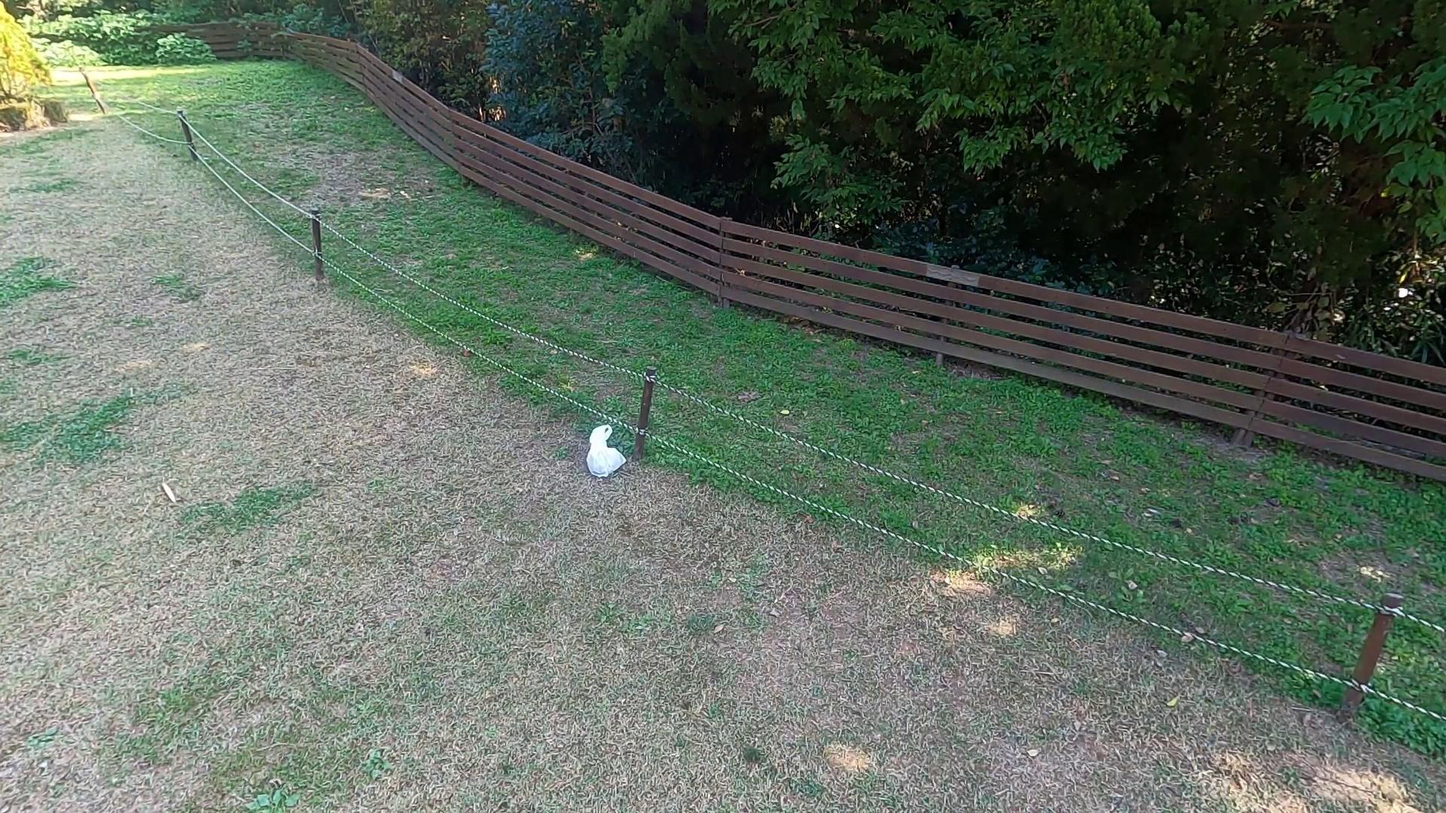trash: (574, 421, 629, 488)
